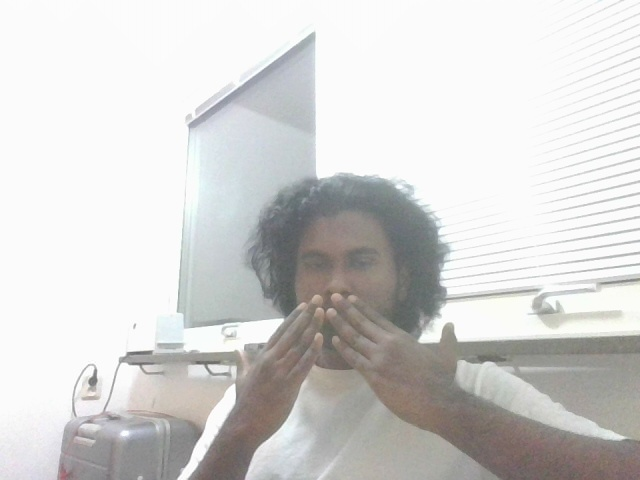Thanks: (212, 284, 471, 424)
